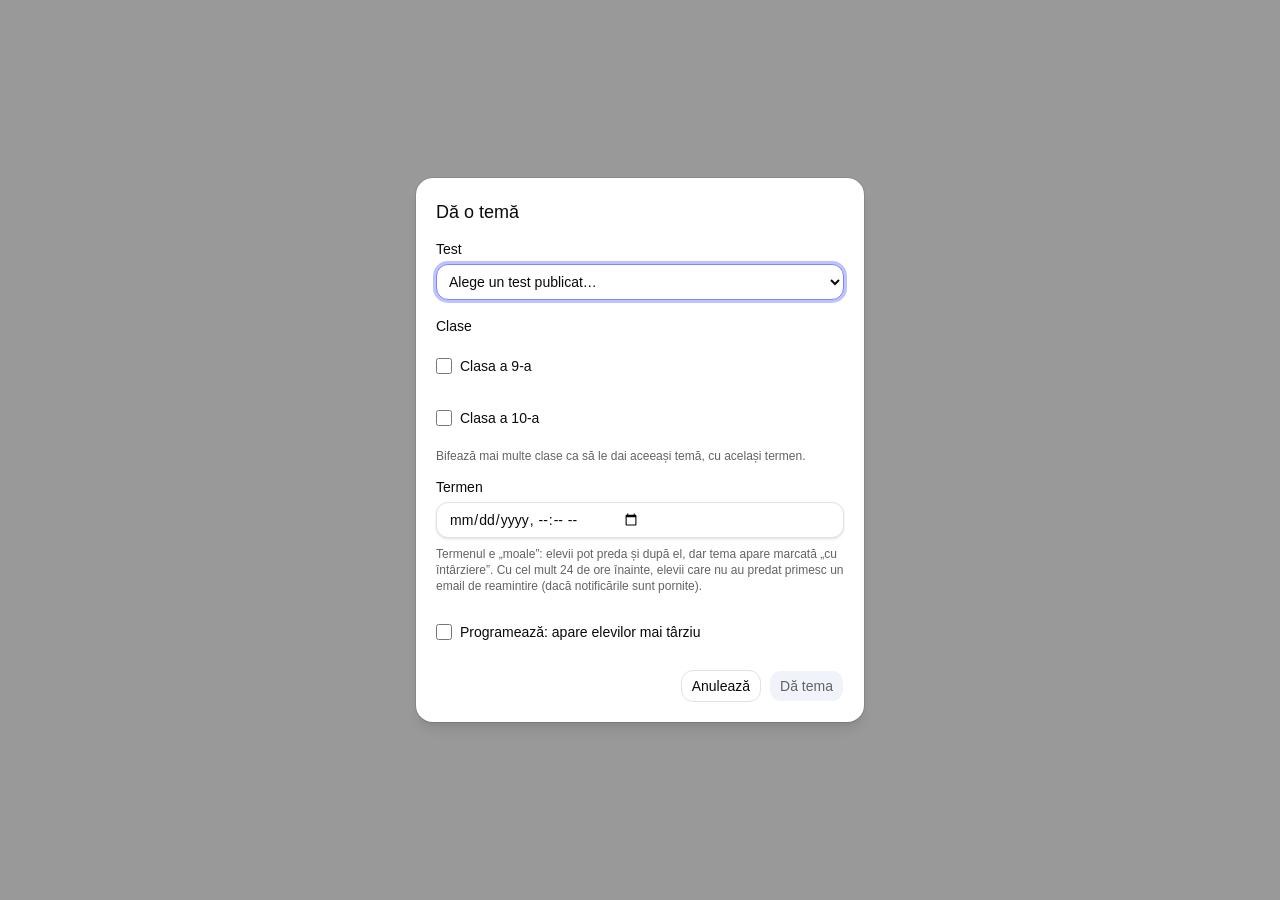
Test: AssignmentDialog (create) › offers only its own class for a quiz reserved to one, already ticked
Select "Doar a 10-a" in the dropdown labelled "Test": (640, 282) [436,264,844,300]
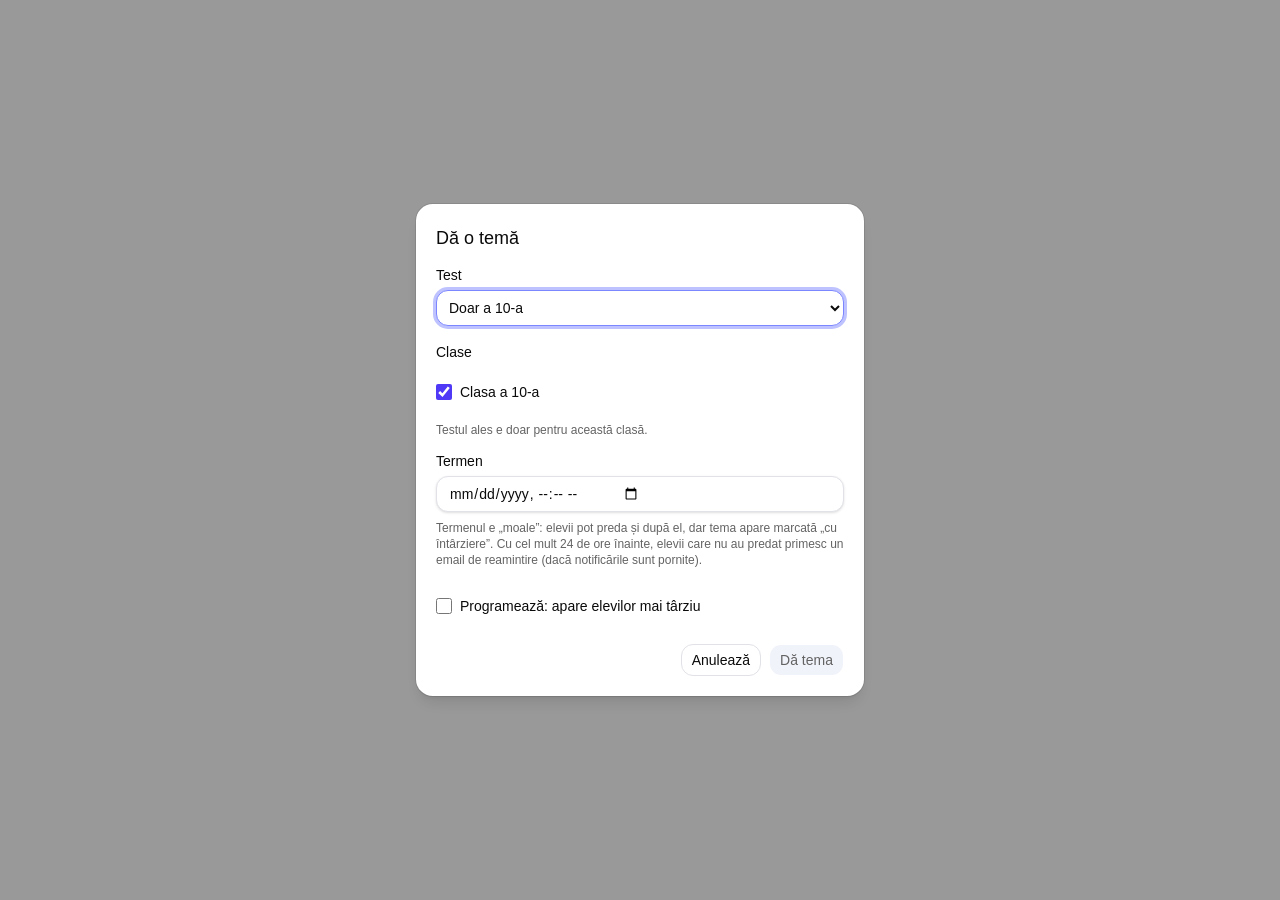
Check: the checkbox labelled "Clasa a 10-a" is checked, box [436,384,452,400]
